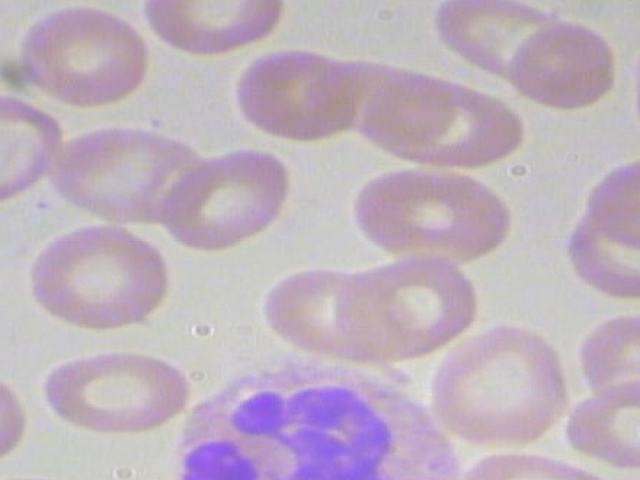RBC: (417, 319, 577, 460), (335, 160, 521, 273), (20, 221, 174, 333), (154, 143, 307, 255), (6, 1, 159, 112), (35, 349, 190, 442), (225, 45, 363, 142), (505, 16, 617, 110), (0, 93, 82, 209), (144, 0, 305, 56), (564, 200, 640, 307), (557, 373, 640, 468), (579, 303, 640, 411), (580, 153, 640, 252), (0, 358, 44, 469), (634, 63, 640, 161)
WBC: (148, 354, 463, 480)
